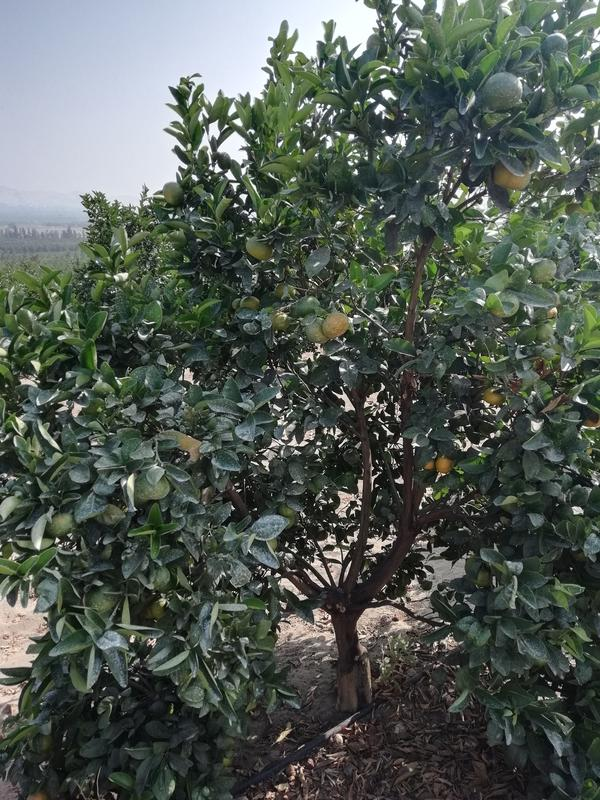mandarina naranja: (323, 310, 349, 339), (435, 456, 452, 473)
mandarina verde: (484, 71, 525, 110), (245, 235, 273, 263), (529, 260, 559, 286), (47, 512, 74, 539), (162, 182, 183, 207), (547, 31, 566, 54)
